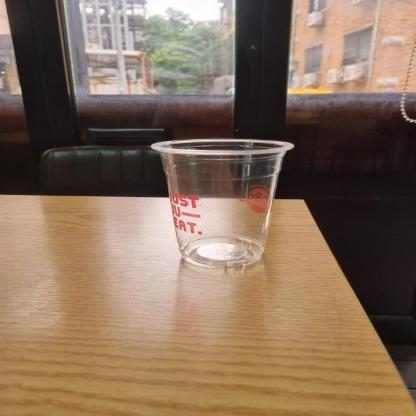Others: (148, 131, 298, 273)
